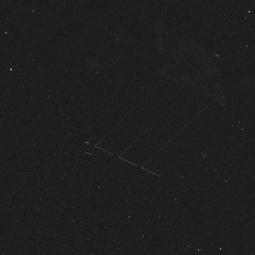proba_2: (86, 36, 230, 188)
